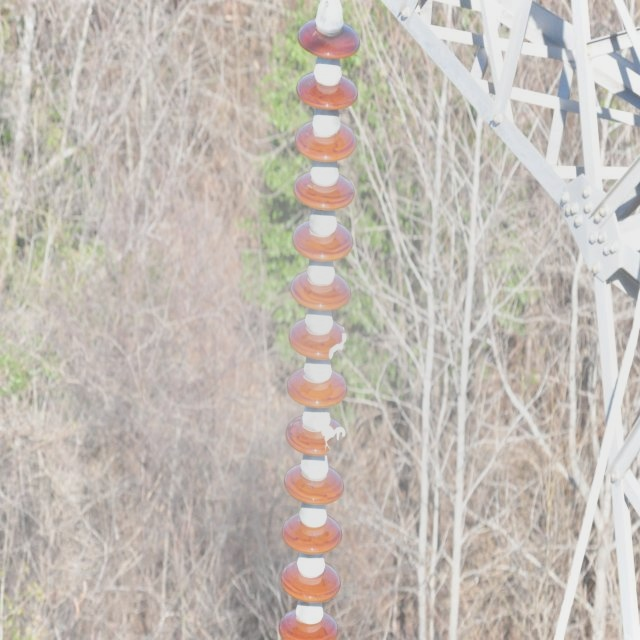broken: (326, 321, 347, 362), (319, 425, 346, 450)
insulator: (277, 23, 360, 639)
